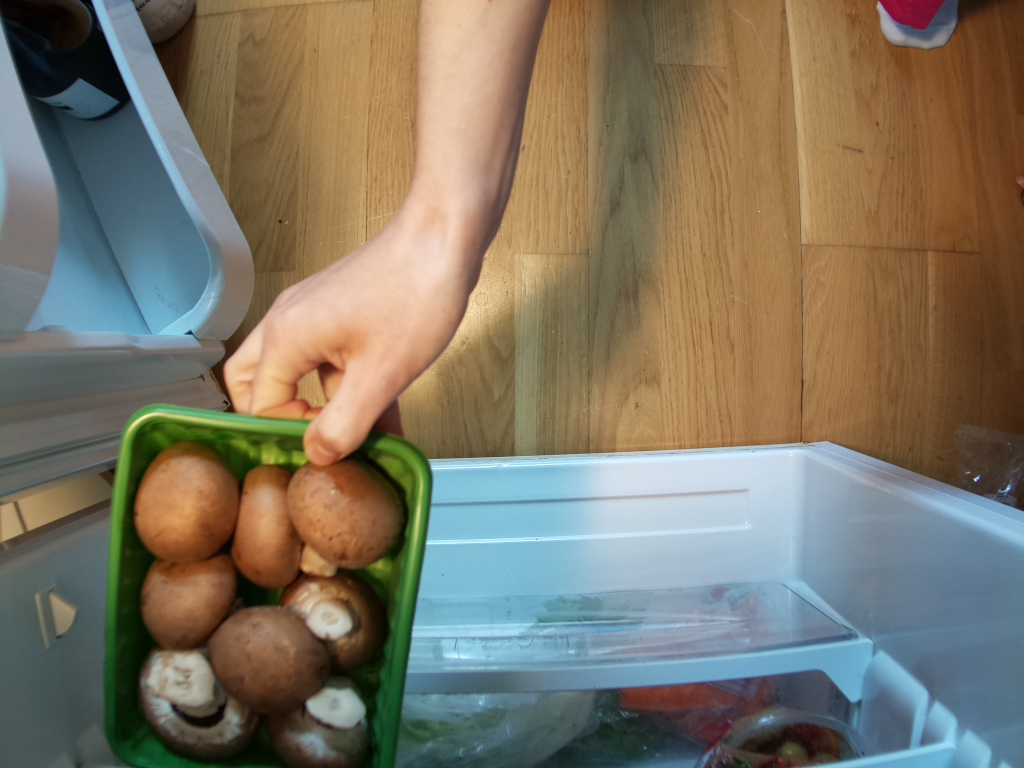mushrooms: (97, 407, 436, 768)
